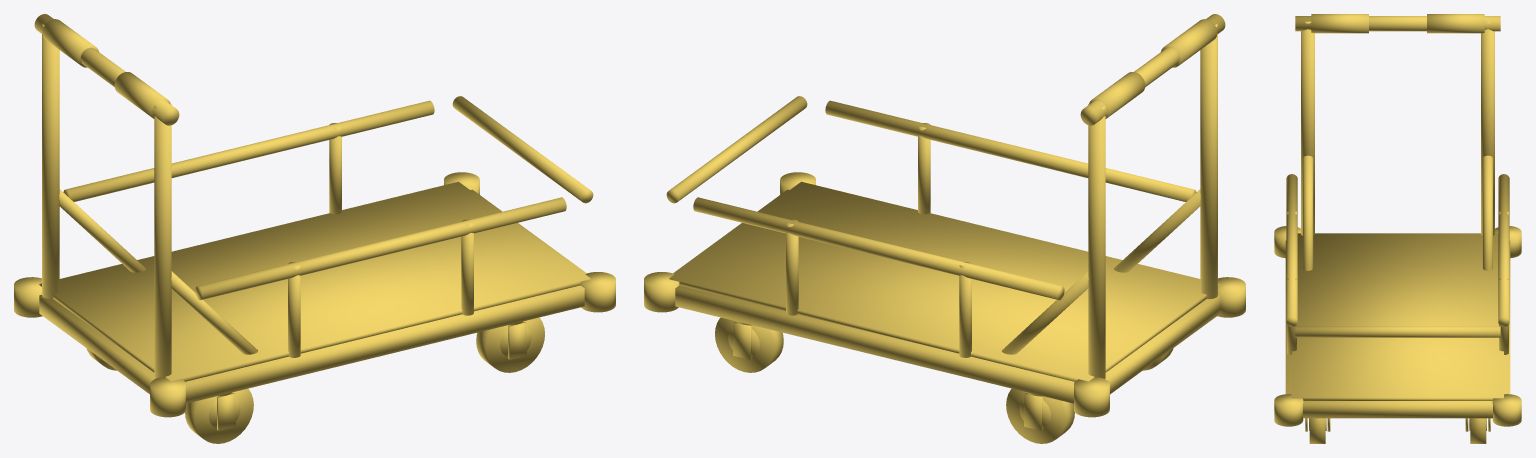
File: SM_Loot_Cart.fbx
3 renders of one model, left to right at view 1: azimuth 30°, elevation 25°; view 2: azimuth 150°, elevation 25°; view 3: azimuth 270°, elevation 25°, orthographic. The views are drawn at different scales.
Visible parts, largest first — view 1: SM_Loot_Cart; view 2: SM_Loot_Cart; view 3: SM_Loot_Cart.
Part boxes in pixels (<box>): SM_Loot_Cart: <box>14,14,615,443</box>; SM_Loot_Cart: <box>644,14,1245,443</box>; SM_Loot_Cart: <box>1274,14,1521,443</box>.
Size of what is drawn, in the model's own units: 133 by 99 by 77.
